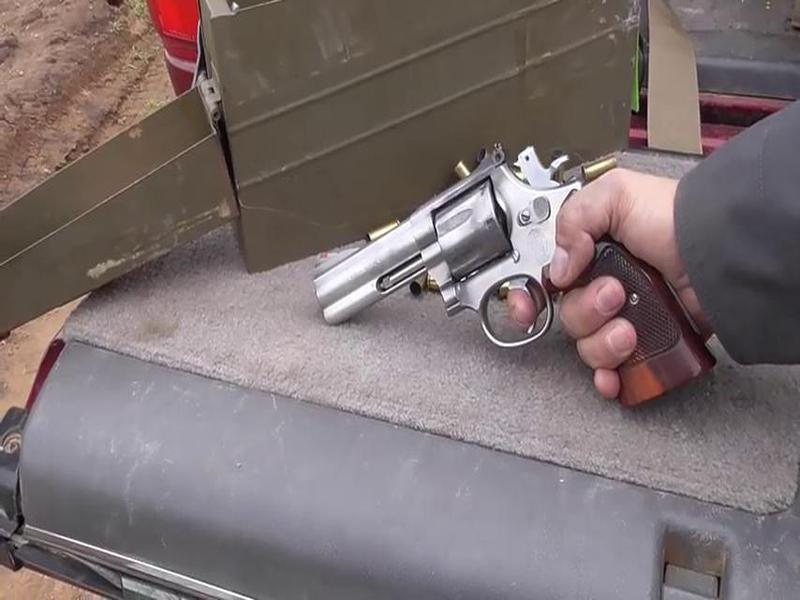Revolver: (307, 137, 644, 404)
